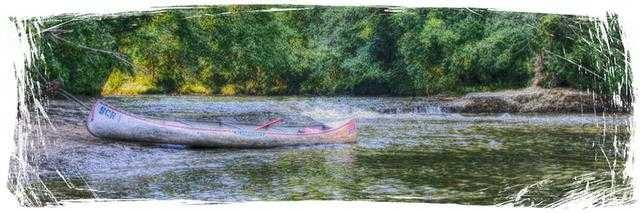kayak: (85, 98, 359, 150)
